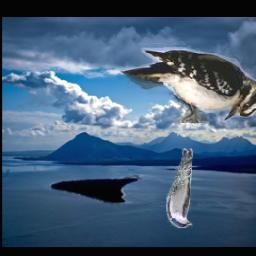Swallow: (167, 149, 194, 229)
Woodpecker: (119, 44, 256, 124)
